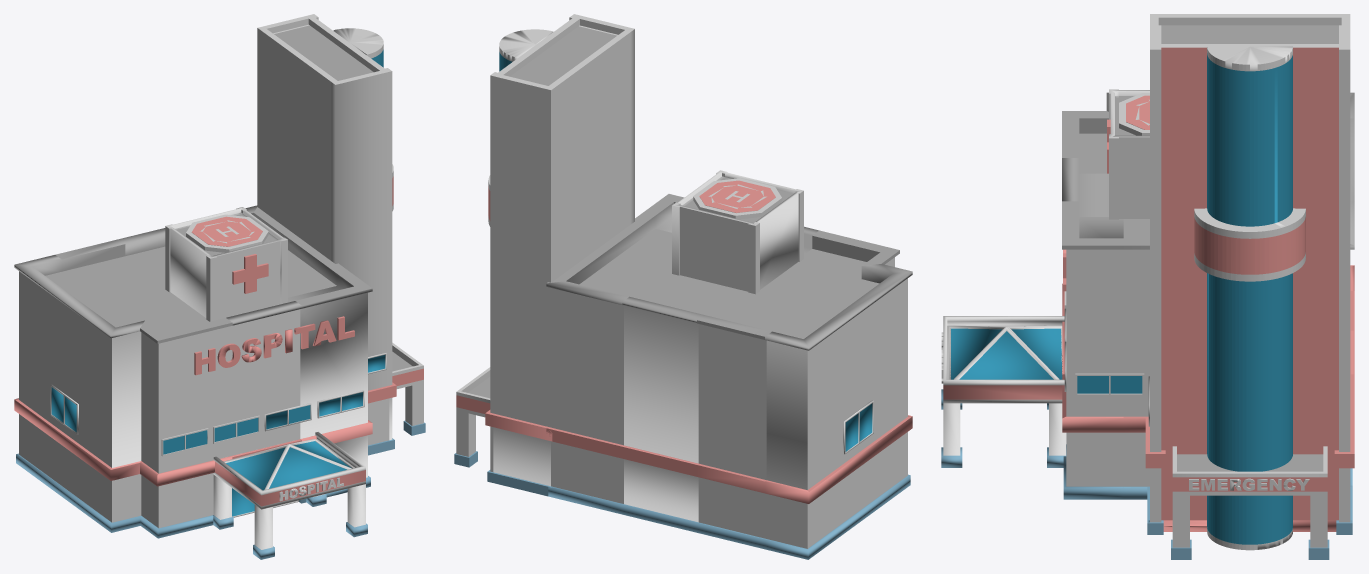
The model's file is Hos.obj.
3 views of the same model, side by side, from view 1: azimuth 30°, elevation 25°; view 2: azimuth 150°, elevation 25°; view 3: azimuth 270°, elevation 25° (orthographic). The views are drawn at different scales.
Parts seen in each view (by area): view 1: Hos; view 2: Hos; view 3: Hos.
Part boxes in pixels (x1=…): Hos: x1=14, y1=14, x2=425, y2=559; Hos: x1=454, y1=14, x2=912, y2=559; Hos: x1=941, y1=14, x2=1354, y2=559.
Size of the model in its own units: 105 by 111 by 85.89.
